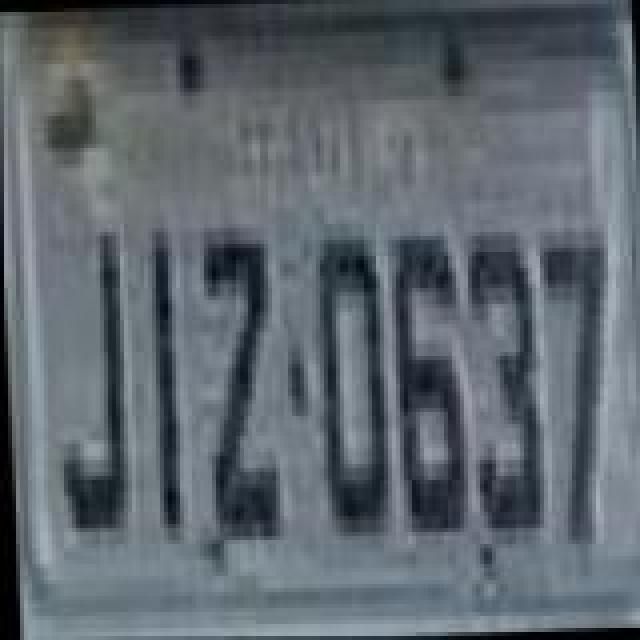1: (138, 214, 186, 542)
3: (454, 218, 550, 550)
6: (384, 228, 468, 544)
7: (532, 230, 624, 546)
J: (40, 222, 132, 554)
O: (308, 220, 392, 536)
Z: (192, 216, 284, 548)
